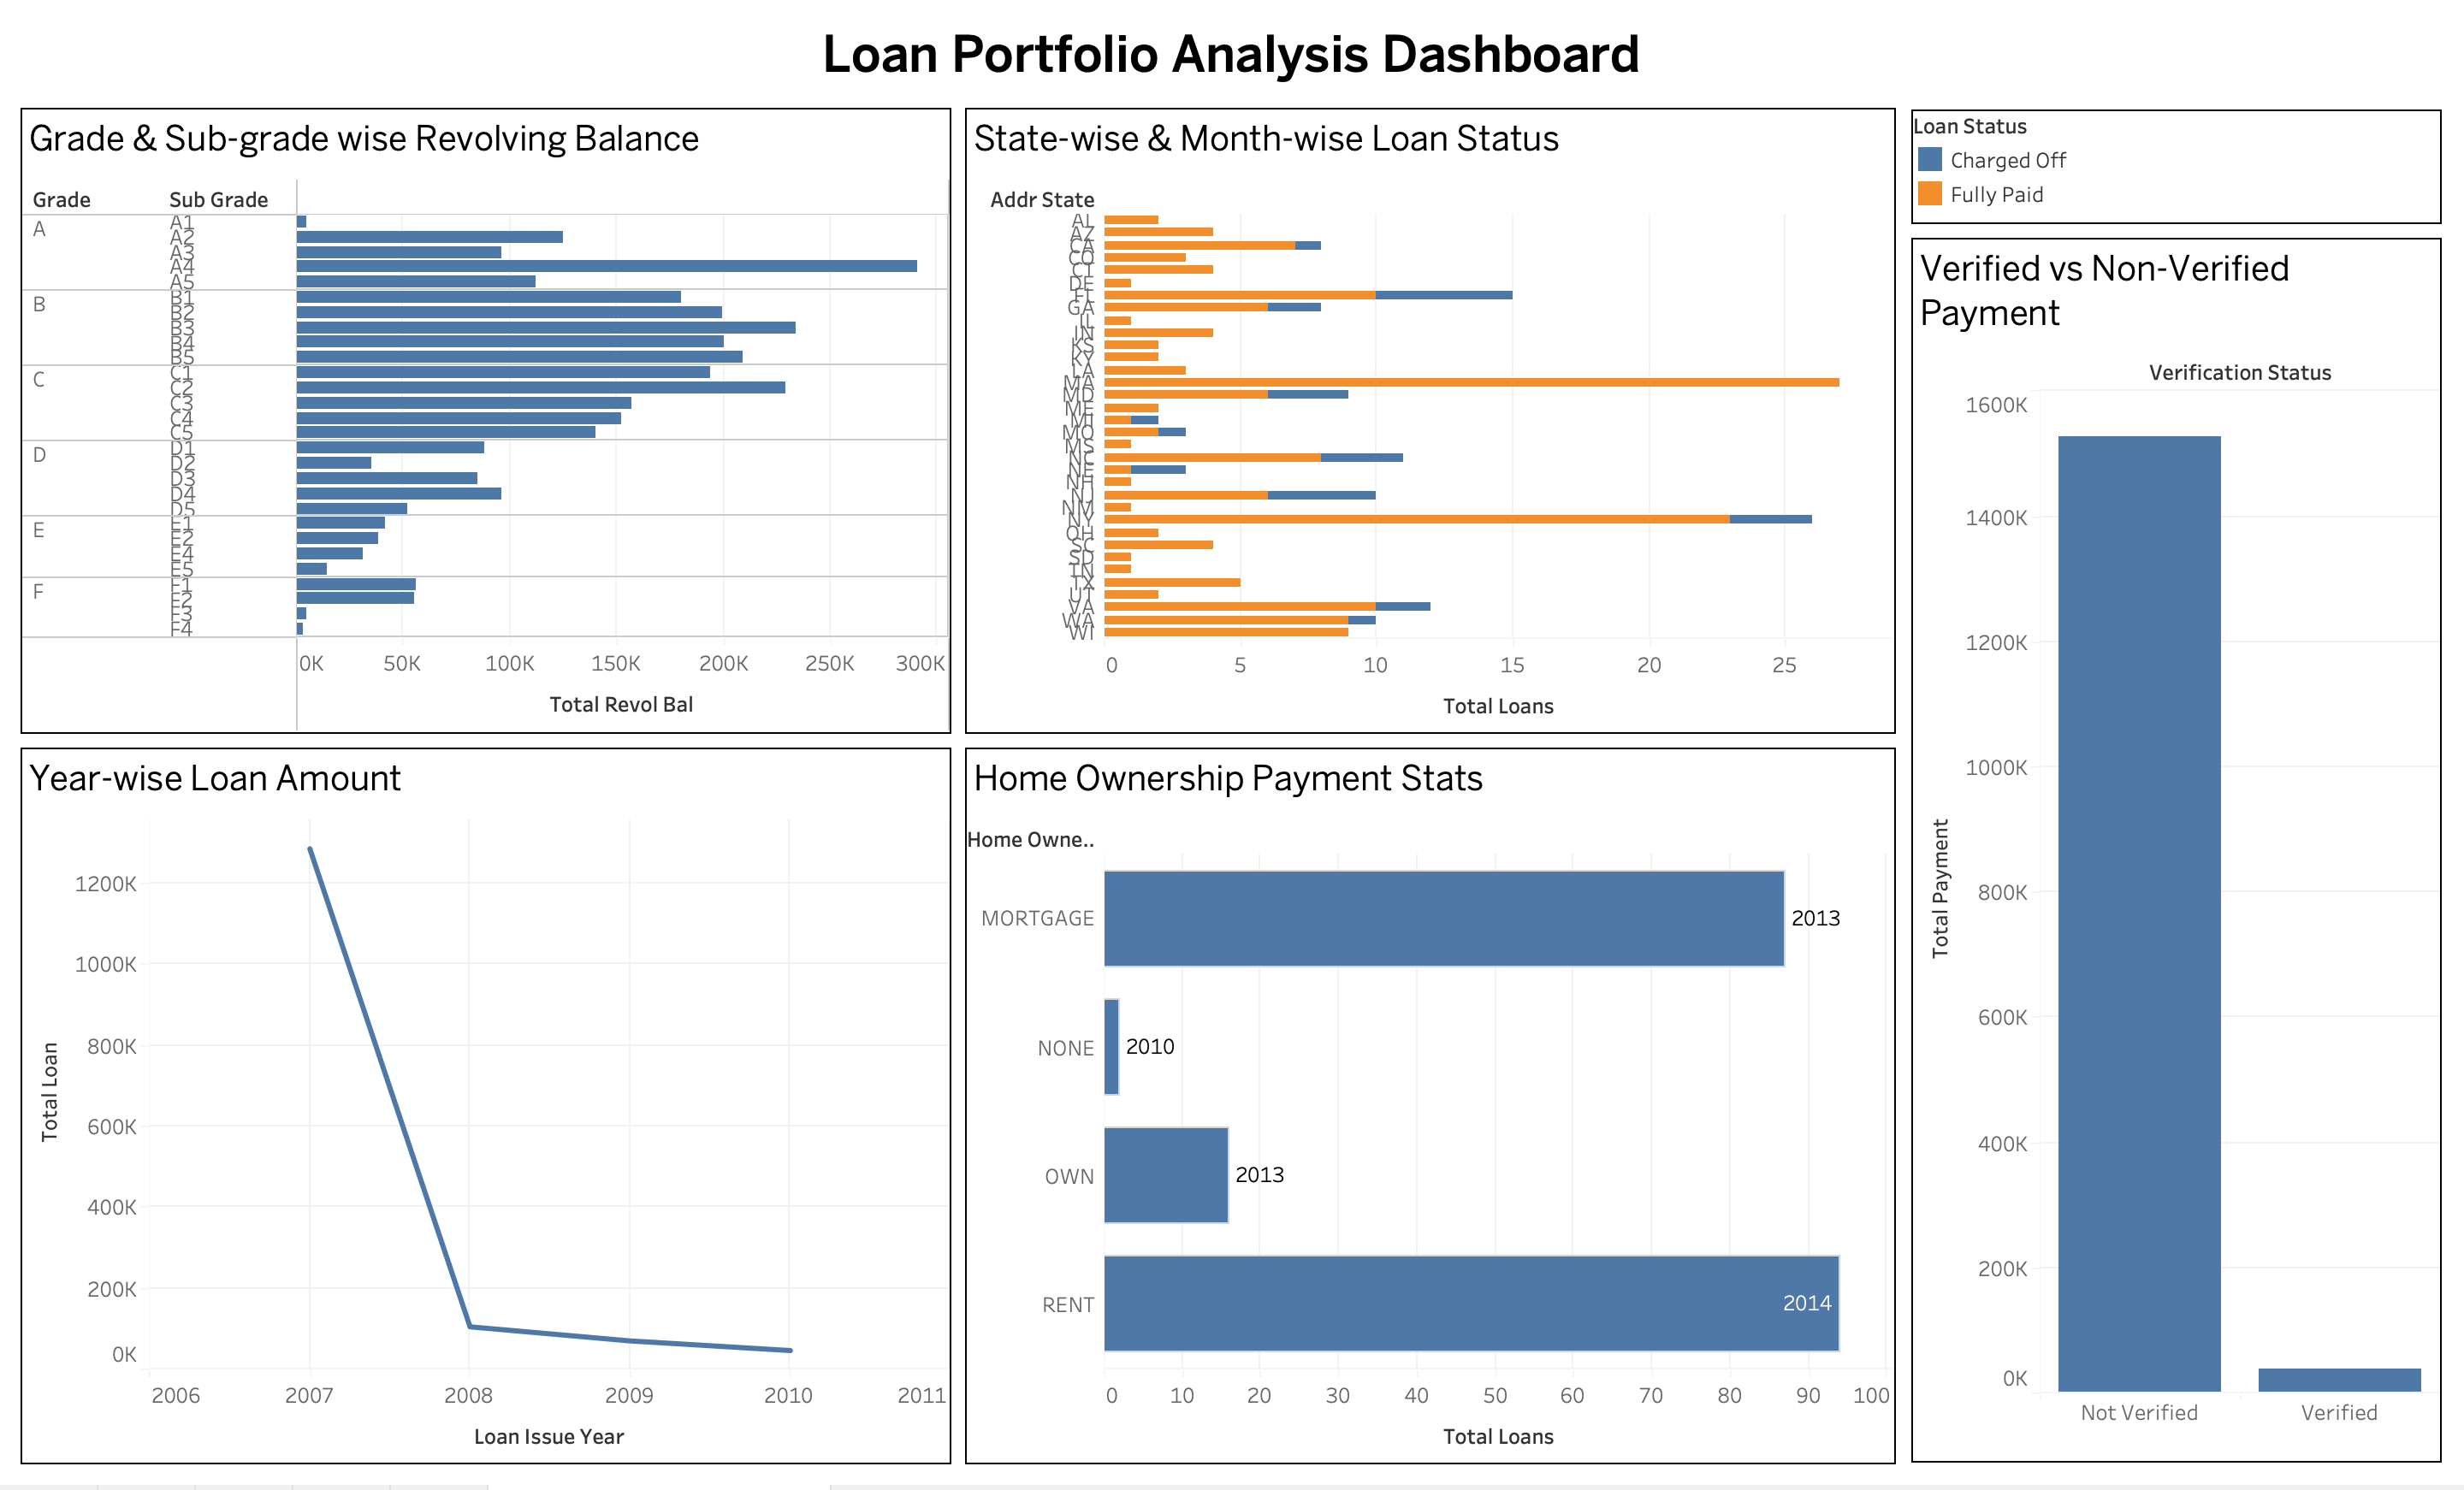

What the dashboard file says about the page in this screenshot:
{"tool":"tableau","page":{"name":"Loan Portfolio Analysis Dashboard","canvas":[1000,1000],"units":"permille","ordinal":0},"visuals":[{"type":"text","box":[6.5,9.9,987,60.6]},{"type":"worksheet","title":"Sheet 2","mark":"Bar","rows":["grade","sub_grade"],"cols":["total_revol_bal"],"box":[6.5,70.5,363.2,465.3]},{"type":"worksheet","title":"Sheet 4","mark":"Automatic","rows":["addr_state"],"cols":["total_loans"],"box":[369.7,70.5,363.4,465.3]},{"type":"legend","title":"Sheet 4","param":"[federated.0aw0dsi110j4231er5fra1rlum76].[none:loan_status:nk]","box":[733.9,71.7,258.8,92.8]},{"type":"worksheet","title":"Sheet 3","mark":"Automatic","rows":["total_payment"],"cols":["verification_status"],"box":[733.9,164.5,258.8,824.3]},{"type":"worksheet","title":"Sheet 1","mark":"Line","rows":["total_loan"],"cols":["loan_issue_year"],"box":[6.5,535.8,363.3,454.3]},{"type":"worksheet","title":"Sheet 5","mark":"Bar","rows":["home_ownership"],"cols":["total_loans"],"box":[369.8,535.8,363.3,454.3]}]}

Visuals, with their boxes on the dashboard's canvas, which has no fixed pixel size, in thousandths of its width and height (x1, y1, x2, y2). These are canvas units, not pixel positions in the 2464x1490 screenshot, which may show the page scaled, cropped or inside an application window:
text: 6, 10, 994, 70
"Sheet 2" worksheet (Bar marks): 6, 70, 370, 536
"Sheet 4" worksheet: 370, 70, 733, 536
"Sheet 4" legend: 734, 72, 993, 164
"Sheet 3" worksheet: 734, 164, 993, 989
"Sheet 1" worksheet (Line marks): 6, 536, 370, 990
"Sheet 5" worksheet (Bar marks): 370, 536, 733, 990
